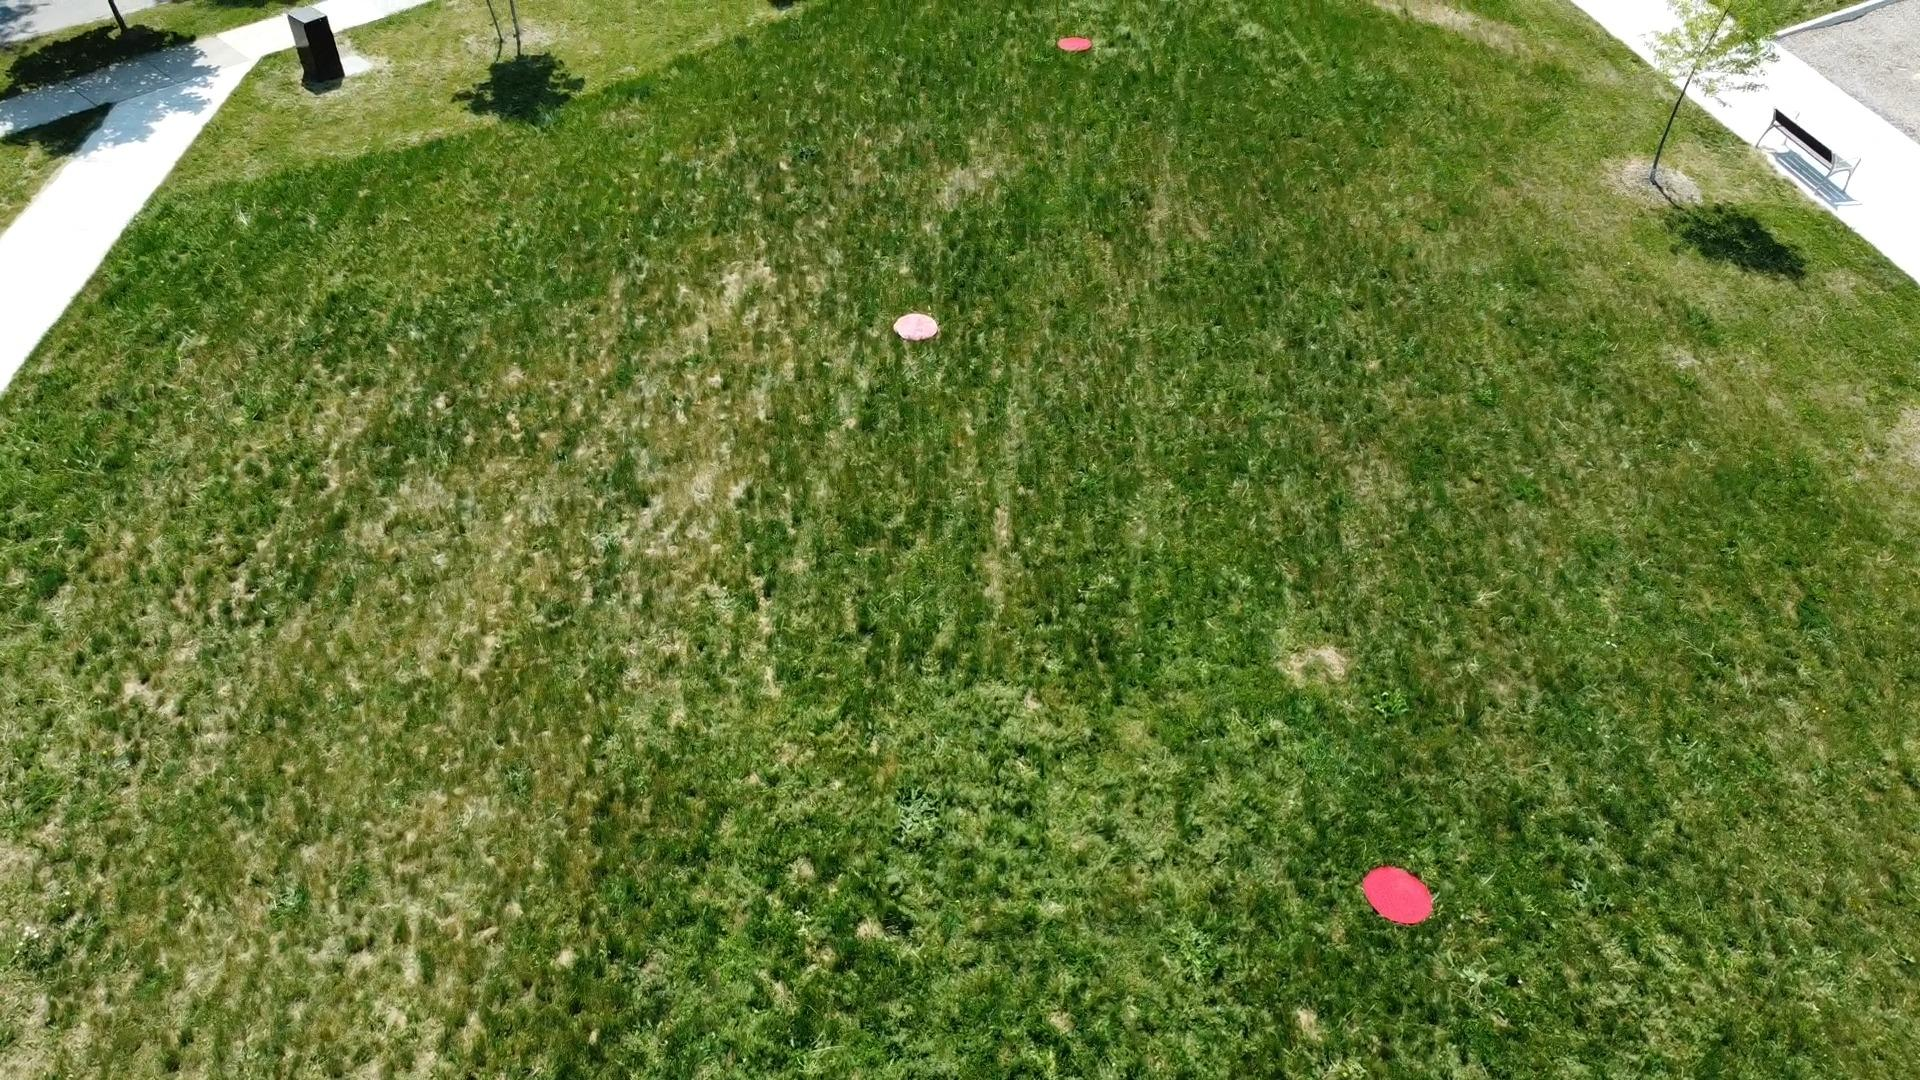Red: (1358, 861, 1440, 927), (891, 313, 940, 343), (1055, 34, 1095, 55)
